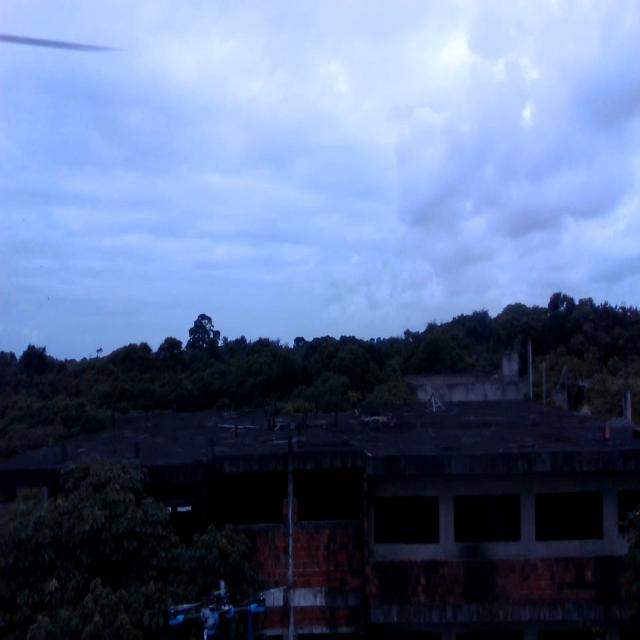-uav-: (159, 585, 281, 640)
